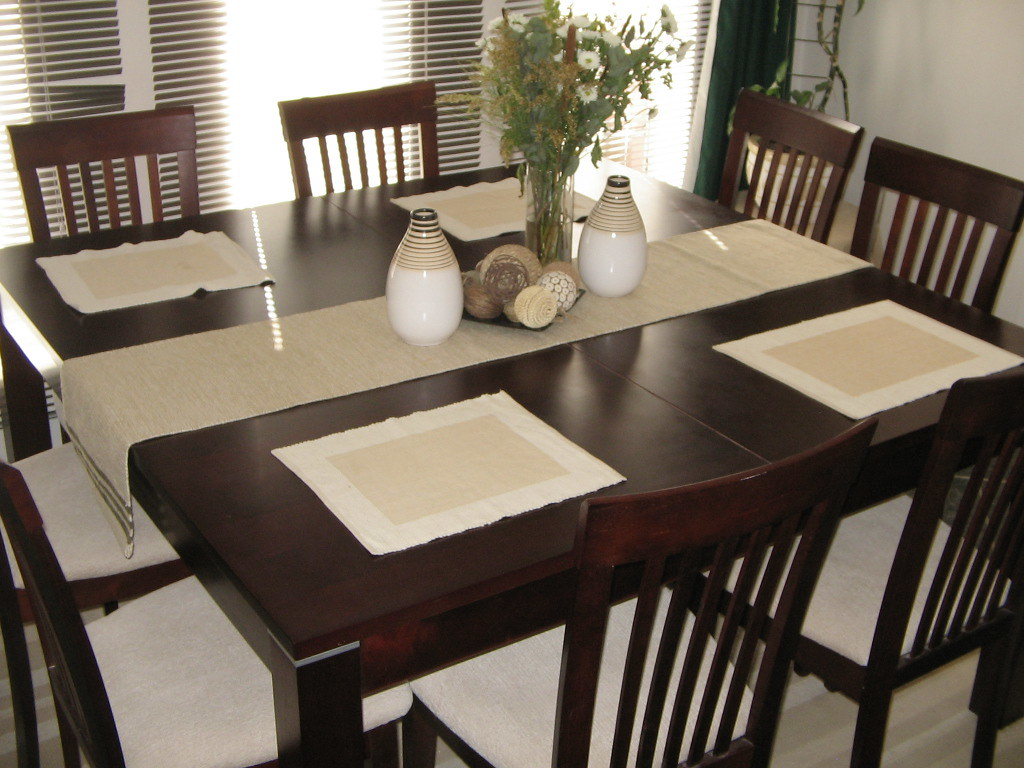dining table: (16, 162, 1002, 686)
